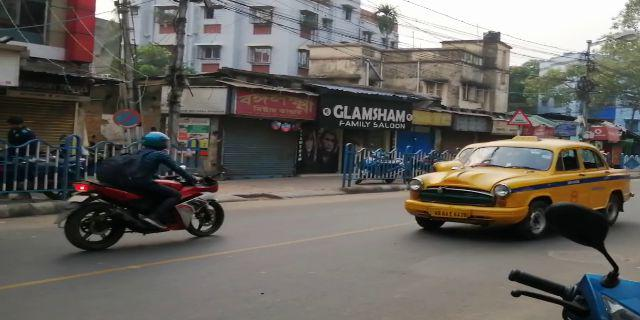Car: (411, 138, 635, 232)
Motorbike: (67, 132, 226, 246)
